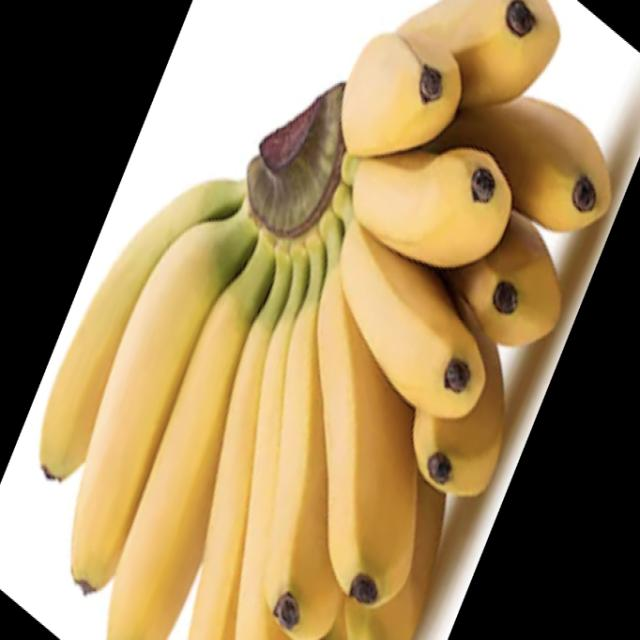god quality banana: (39, 0, 611, 639)
